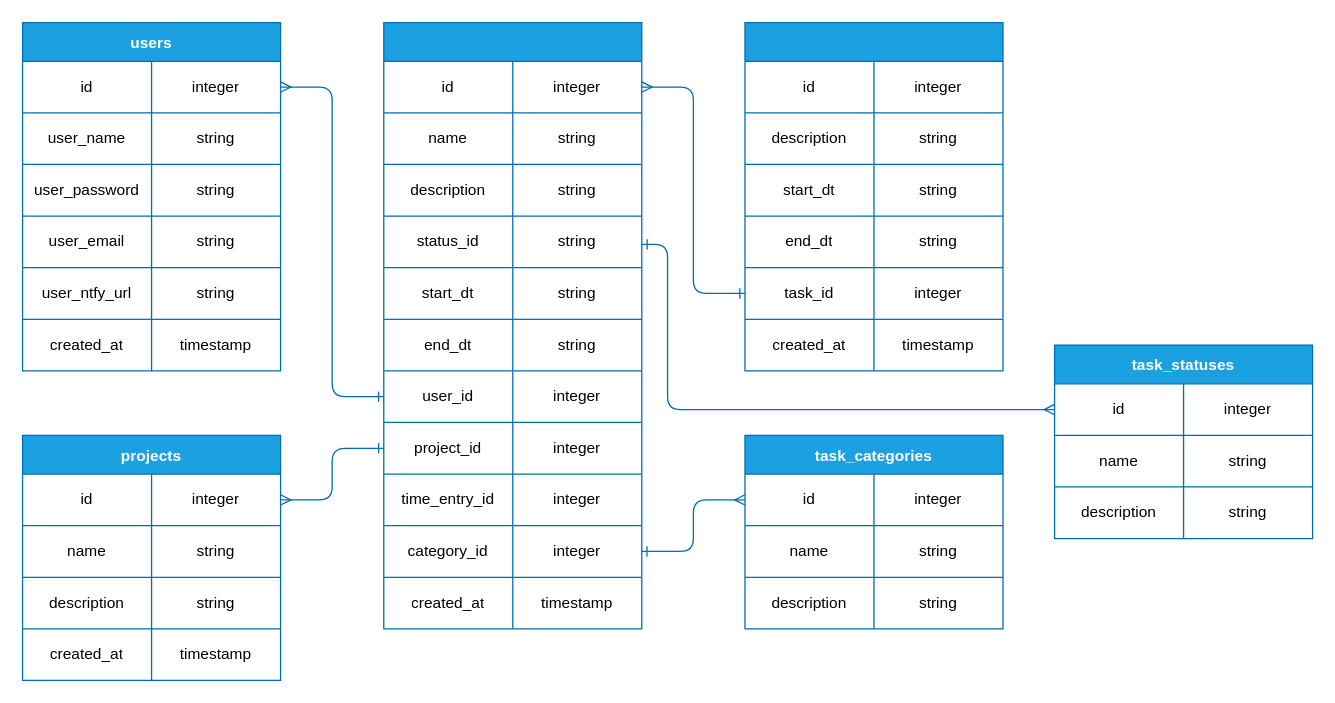
The diagram is 1335 pixels wide and 703 high, and some of its shapes have lost their labels. Each missing label, with the box of its shape:
tasks: (382, 21, 642, 629)
time_entries: (744, 21, 1003, 371)
